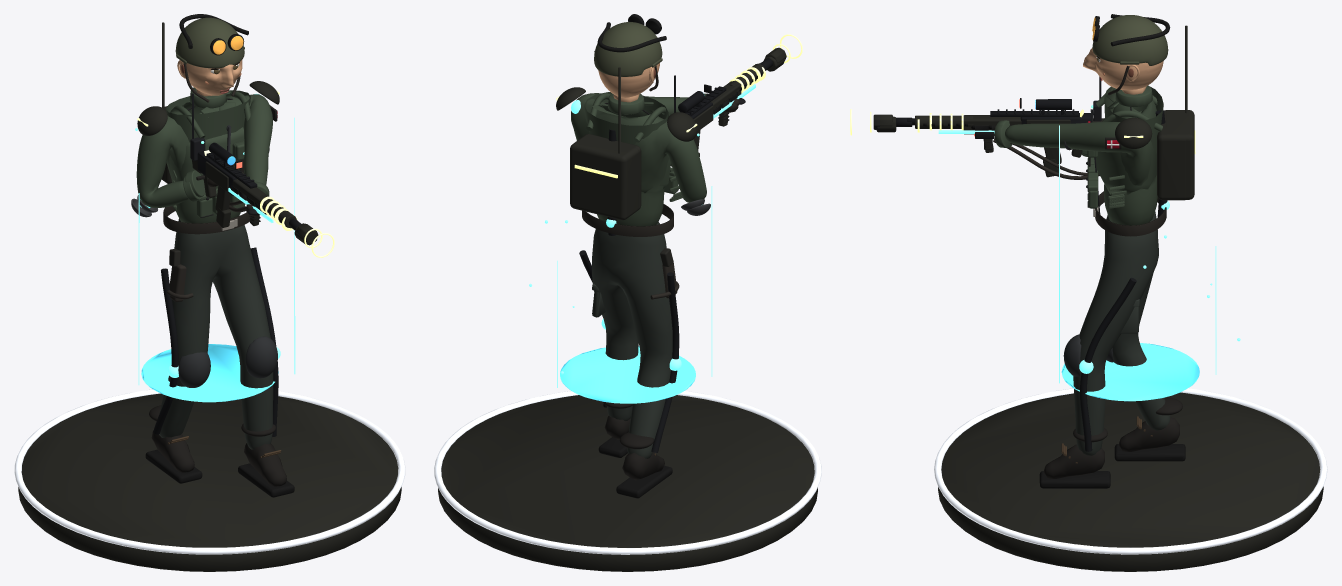
File: vagt_std.glb
The picture shows the model from 3 angles, left to right: view 1: azimuth 30°, elevation 25°; view 2: azimuth 150°, elevation 25°; view 3: azimuth 270°, elevation 25°; orthographic projection.
Parts seen in each view (by area): view 1: fod_net, menneske_net, overkrop_net, hoved_net, op4.001_net, op1.002_net, op1.001_net, op4.002_net, vaaben_net, op3_net, op4.003_net, op3.001_net (+1 smaller); view 2: fod_net, menneske_net, overkrop_net, op4_net, op4.001_net, hoved_net, op1.002_net, op4.002_net, op3_net, op1.001_net, op4.003_net, vaaben_net (+2 smaller); view 3: fod_net, menneske_net, overkrop_net, hoved_net, op4.001_net, op1.001_net, ned4.001_net, vaaben_net, op4_net, op1.002_net, op4.002_net, op1_net (+3 smaller).
Boxes of the visible parts, left/top/right/bottom form: fod_net: left=14, top=389, right=405, bottom=571; menneske_net: left=145, top=218, right=294, bottom=497; overkrop_net: left=136, top=87, right=277, bottom=223; hoved_net: left=175, top=14, right=248, bottom=102; op4.001_net: left=135, top=117, right=295, bottom=402; op1.002_net: left=163, top=206, right=277, bottom=387; op1.001_net: left=169, top=91, right=269, bottom=217; op4.002_net: left=153, top=247, right=280, bottom=436; vaaben_net: left=191, top=150, right=301, bottom=230; op3_net: left=137, top=22, right=279, bottom=135; op4.003_net: left=228, top=188, right=334, bottom=257; op3.001_net: left=204, top=150, right=296, bottom=228; fod_net: left=434, top=391, right=821, bottom=571; menneske_net: left=592, top=222, right=672, bottom=498; overkrop_net: left=571, top=92, right=745, bottom=226; op4_net: left=570, top=100, right=702, bottom=235; op4.001_net: left=529, top=133, right=712, bottom=403; hoved_net: left=594, top=14, right=666, bottom=97; op1.002_net: left=582, top=204, right=679, bottom=357; op4.002_net: left=579, top=250, right=681, bottom=452; op3_net: left=556, top=67, right=697, bottom=153; op1.001_net: left=586, top=75, right=679, bottom=193; op4.003_net: left=713, top=34, right=802, bottom=118; vaaben_net: left=686, top=58, right=772, bottom=118; fod_net: left=934, top=388, right=1327, bottom=571; menneske_net: left=1039, top=211, right=1185, bottom=488; overkrop_net: left=994, top=85, right=1163, bottom=225; hoved_net: left=1083, top=14, right=1170, bottom=95; op4.001_net: left=1059, top=125, right=1240, bottom=401; op1.001_net: left=1064, top=76, right=1162, bottom=208; ned4.001_net: left=1109, top=110, right=1186, bottom=205; vaaben_net: left=896, top=109, right=1104, bottom=157; op4_net: left=1109, top=110, right=1195, bottom=217; op1.002_net: left=1063, top=191, right=1166, bottom=376; op4.002_net: left=1079, top=277, right=1136, bottom=451; op1_net: left=912, top=99, right=1099, bottom=179.
Size of the model in its own units: 1.94 by 2.57 by 2.35.
